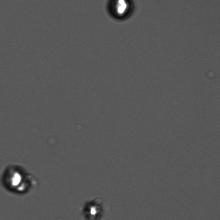Living Cell: (1, 163, 39, 196), (77, 194, 109, 220), (103, 1, 137, 21)
